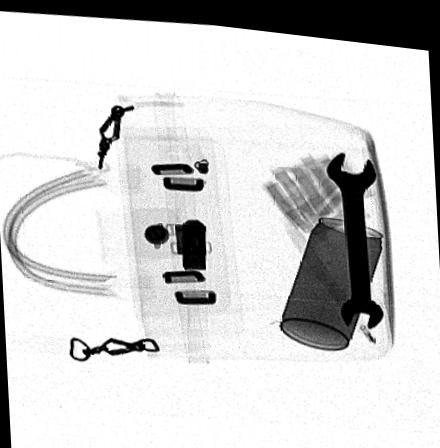Wrench: (326, 144, 384, 321)
